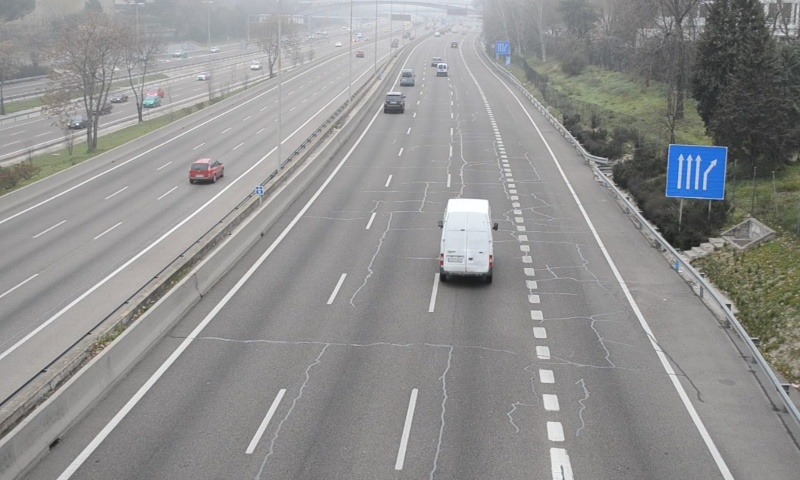car: (383, 92, 405, 114)
van: (439, 198, 494, 284), (400, 68, 413, 87)
